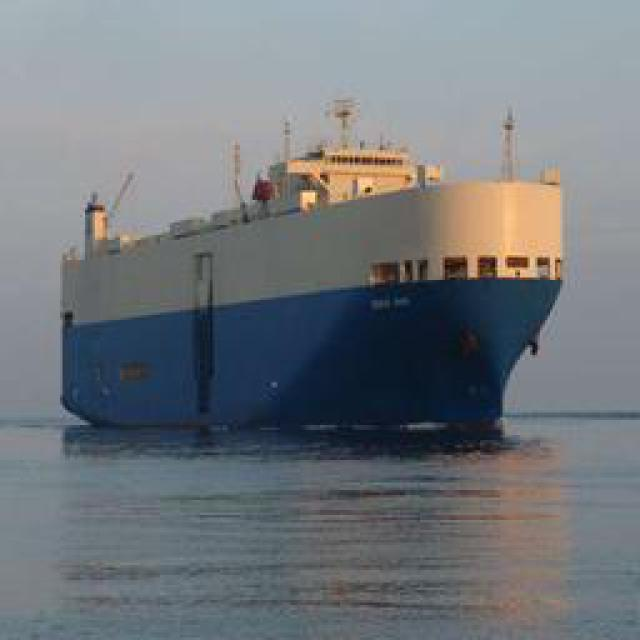Ship: (47, 117, 567, 437)
